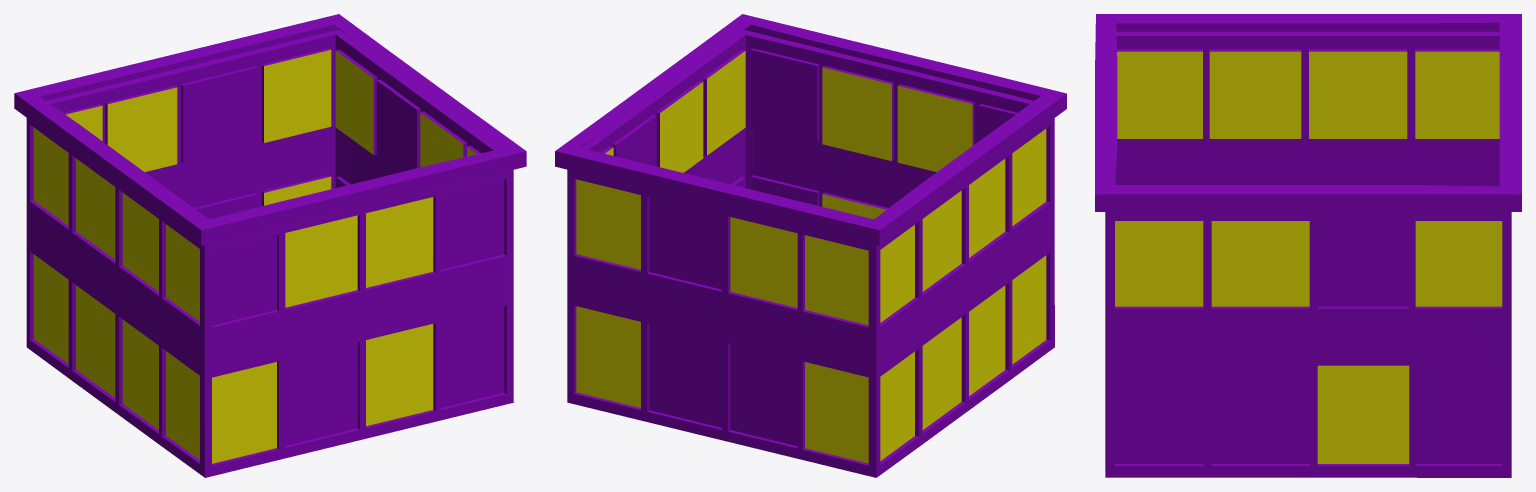
Rendered from Building_Small_Peice_001.fbx.
3 renders of one model, left to right at view 1: azimuth 30°, elevation 25°; view 2: azimuth 150°, elevation 25°; view 3: azimuth 270°, elevation 25°, orthographic. The views are drawn at different scales.
Visible parts, largest first — view 1: Building_Small_Piece_001; view 2: Building_Small_Piece_001; view 3: Building_Small_Piece_001.
Boxes of the visible parts, bbox=[...] form: Building_Small_Piece_001: bbox=[14, 14, 526, 477]; Building_Small_Piece_001: bbox=[555, 14, 1066, 477]; Building_Small_Piece_001: bbox=[1095, 14, 1521, 477].
Size of the model in its own units: 5380 by 4000 by 5376.
